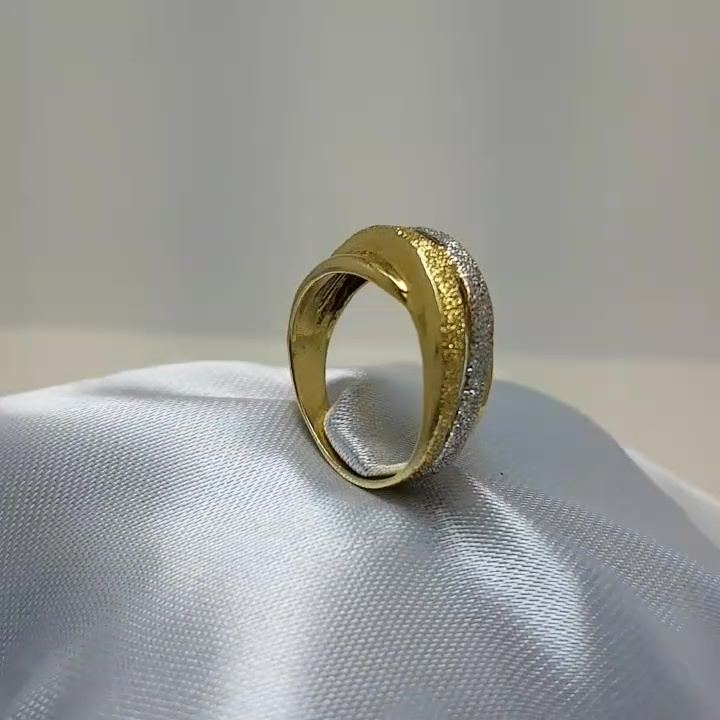Ring 5: (263, 207, 503, 510)
